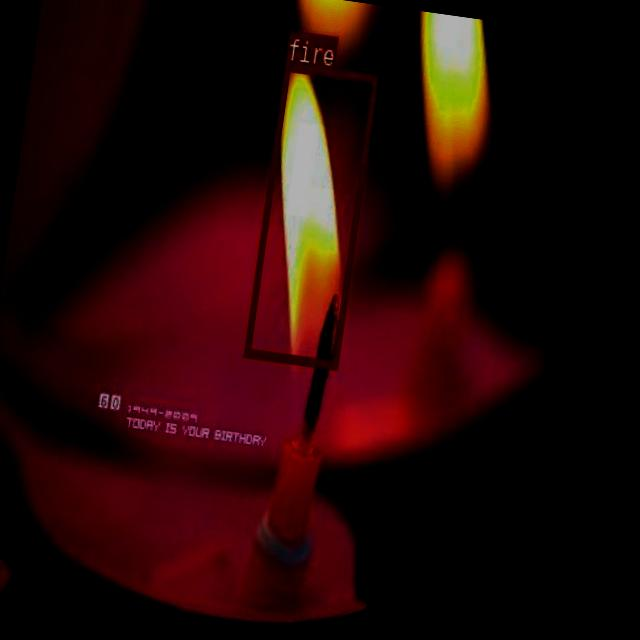fire: (242, 60, 378, 369)
